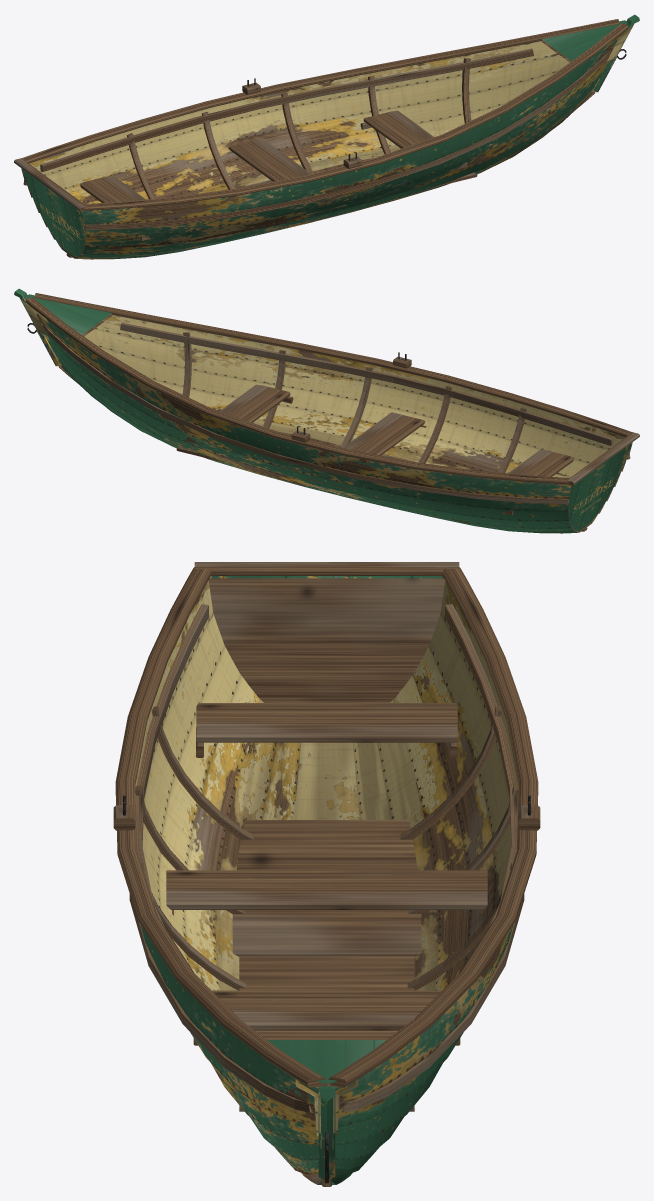
Rendered from lakeboat_LOD2.dae.
3 views of the same model, one above another, from view 1: azimuth 30°, elevation 25°; view 2: azimuth 150°, elevation 25°; view 3: azimuth 270°, elevation 25° (orthographic). The views are drawn at different scales.
Visible parts, largest first — view 1: lakeboat; view 2: lakeboat; view 3: lakeboat.
Boxes of the visible parts, <box> form: lakeboat: <box>14,14,639,259</box>; lakeboat: <box>14,288,639,533</box>; lakeboat: <box>113,562,540,1186</box>.
Size of the model in its own units: 4.44 by 1.39 by 0.8313.
